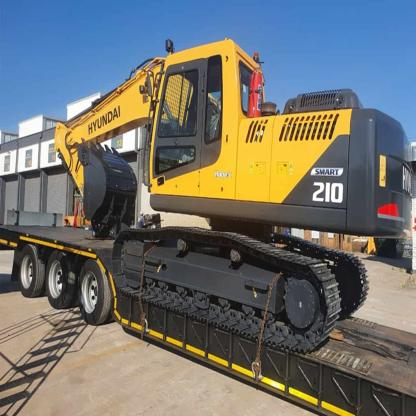excavator: (51, 32, 416, 360)
